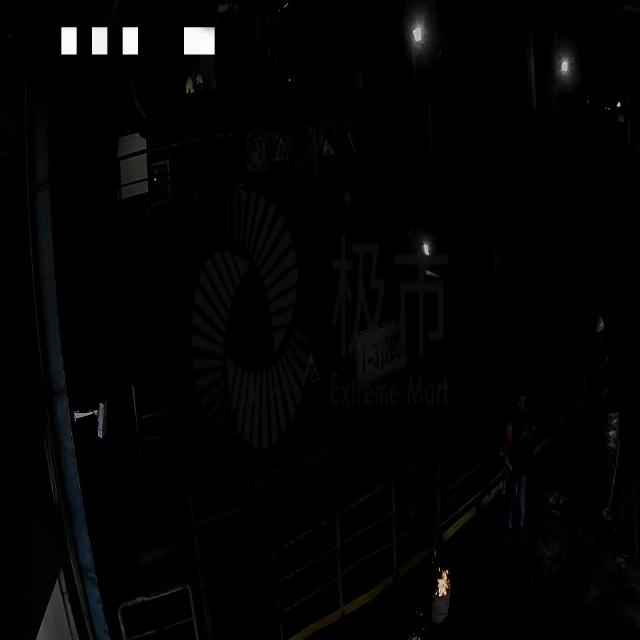smoke: (247, 36, 344, 196)
